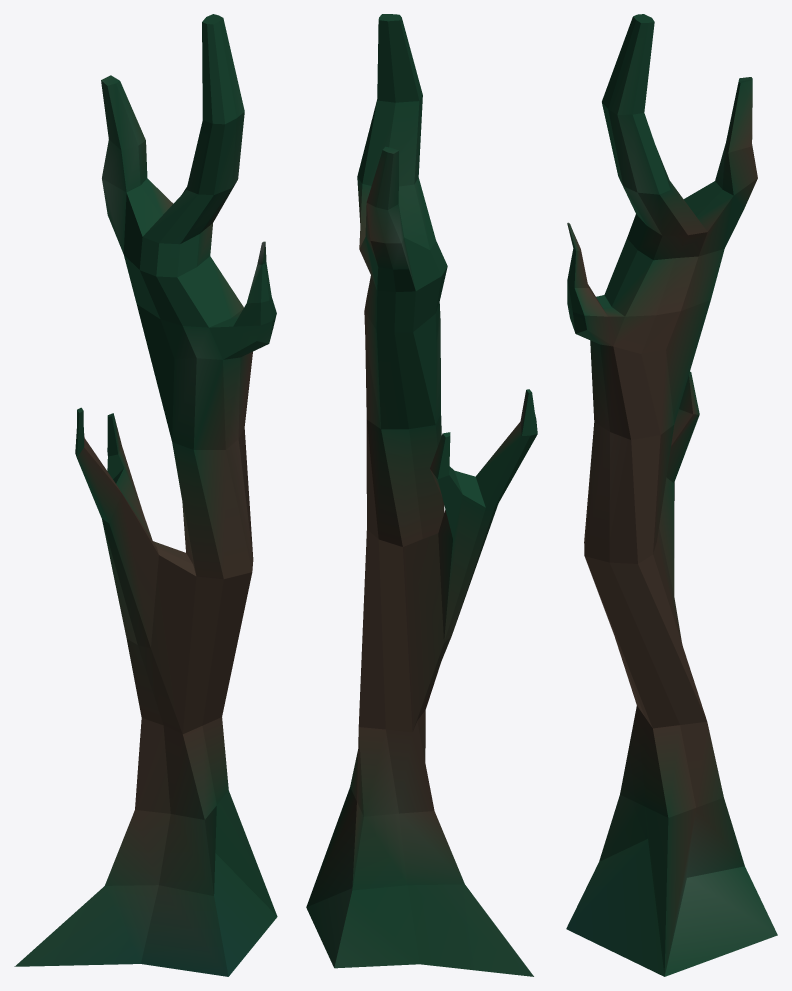
The model's file is tree_5.fbx.
3 views of the same model, side by side, from view 1: azimuth 30°, elevation 25°; view 2: azimuth 150°, elevation 25°; view 3: azimuth 270°, elevation 25° (orthographic). The views are drawn at different scales.
Visible parts, largest first — view 1: Cube.079; view 2: Cube.079; view 3: Cube.079.
Boxes of the visible parts, bbox=[...] form: Cube.079: bbox=[14, 14, 277, 976]; Cube.079: bbox=[306, 14, 537, 976]; Cube.079: bbox=[566, 14, 777, 976].
Bounding box in the file's own units: 387 × 1375 × 286.
